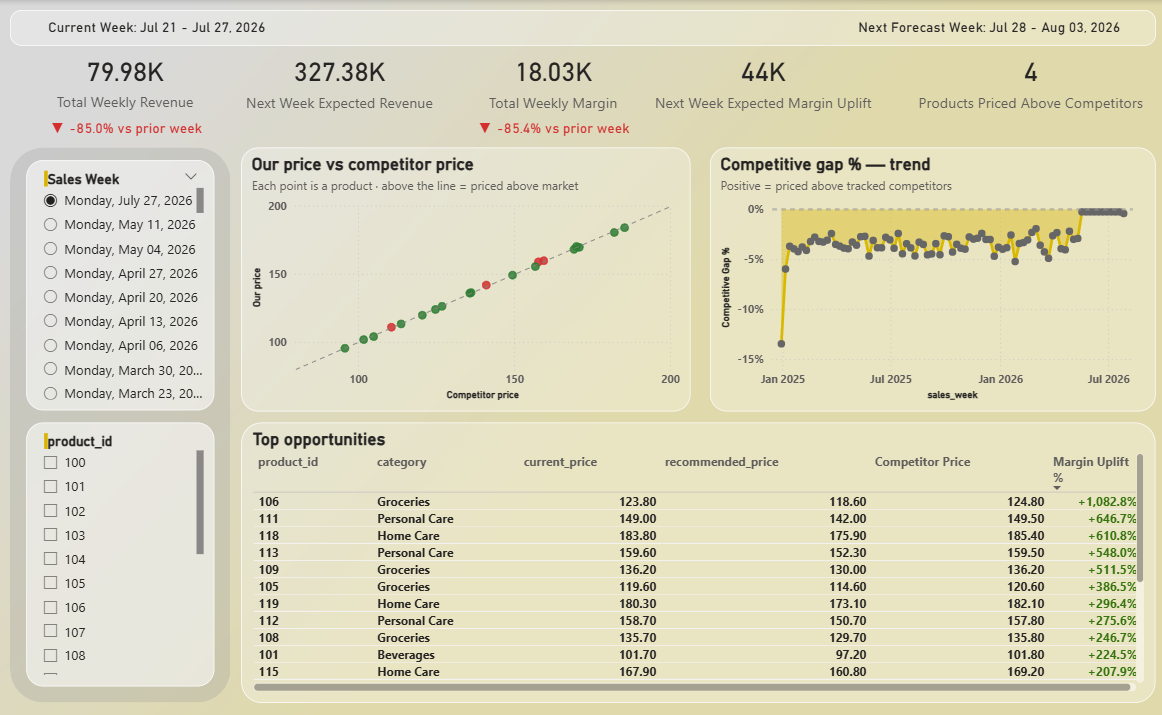

This screenshot's page, from the dashboard's own definition file:
{"tool":"powerbi","page":{"name":"Page 2","canvas":[1304,800],"ordinal":1},"visuals":[{"type":"shape","box":[10.7,164.9,246.7,620.6],"z":0},{"type":"slicer","fields":{"Values":["ml_dynamic_competitive_pricing.product_id"]},"box":[29.5,471.9,210.5,294.9],"z":1000},{"type":"slicer","fields":{"Values":["ml_dynamic_competitive_pricing.sales_week"]},"box":[29.5,179.6,210.5,280.2],"z":2000},{"type":"card","fields":{"Values":["KPIs.Total Weekly Revenue"]},"box":[0,30.8,280.2,116.6],"z":3000},{"type":"lineChart","title":"Competitive gap % — trend","fields":{"Category":["ml_dynamic_competitive_pricing.sales_week"],"Y":["KPIs.Competitive Gap %"]},"box":[793.6,164.9,498.7,294.9],"z":4000},{"type":"scatterChart","title":"Our price vs  competitor price","fields":{"Category":["ml_dynamic_competitive_pricing.product_id"],"X":["Avg(ml_dynamic_competitive_pricing.avg_competitor_price)"],"Y":["ml_dynamic_competitive_pricing.avg_unit_retail"]},"box":[269.4,164.9,502.7,294.9],"z":5000},{"type":"tableEx","title":"Top opportunities","fields":{"Values":["ml_dynamic_competitive_pricing.product_id","ml_dynamic_competitive_pricing.category","recommendations.current_price","recommendations.recommended_price","KPIs.Avg Competitor Price Per Product","KPIs.Margin Uplift %"]},"box":[269.4,471.9,1022.8,313.7],"z":6000},{"type":"card","fields":{"Values":["KPIs.Next Week Expected Revenue"]},"box":[239.9,30.8,278.8,118],"z":7000},{"type":"card","fields":{"Values":["KPIs.Total Weekly Margin"]},"box":[479.9,30.8,278.8,118],"z":8000},{"type":"card","fields":{"Values":["KPIs.Next Week Expected Margin Uplift"]},"box":[714.5,30.8,278.8,118],"z":9000},{"type":"card","fields":{"Values":["KPIs.Products Priced Above Competitors"]},"box":[1013.4,30.8,278.8,118],"z":10000},{"type":"card","fields":{"Values":["KPIs.Dashboard Header Dates"]},"box":[10.7,10.7,1281.5,40.2],"z":11000},{"type":"card","fields":{"Values":["MOM.Revenue WoW Label"]},"box":[12.1,99.2,257.4,89.8],"z":12000},{"type":"card","fields":{"Values":["MOM.Margin WoW Label"]},"box":[490.6,99.2,257.4,89.8],"z":13000}]}

Visuals, with their boxes in screenshot pixels (x1, y1, x2, y2), scaled from the page's 1304x800 canvas onto the 1162x715 screenshot:
shape: <bbox>10, 147, 229, 702</bbox>
slicer - ml_dynamic_competitive_pricing.product_id: <bbox>26, 422, 214, 685</bbox>
slicer - ml_dynamic_competitive_pricing.sales_week: <bbox>26, 161, 214, 411</bbox>
card - KPIs.Total Weekly Revenue: <bbox>0, 28, 250, 132</bbox>
"Competitive gap % — trend" lineChart: <bbox>707, 147, 1152, 411</bbox>
"Our price vs  competitor price" scatterChart: <bbox>240, 147, 688, 411</bbox>
"Top opportunities" tableEx: <bbox>240, 422, 1151, 702</bbox>
card - KPIs.Next Week Expected Revenue: <bbox>214, 28, 462, 133</bbox>
card - KPIs.Total Weekly Margin: <bbox>428, 28, 676, 133</bbox>
card - KPIs.Next Week Expected Margin Uplift: <bbox>637, 28, 885, 133</bbox>
card - KPIs.Products Priced Above Competitors: <bbox>903, 28, 1151, 133</bbox>
card - KPIs.Dashboard Header Dates: <bbox>10, 10, 1151, 45</bbox>
card - MOM.Revenue WoW Label: <bbox>11, 89, 240, 169</bbox>
card - MOM.Margin WoW Label: <bbox>437, 89, 667, 169</bbox>
